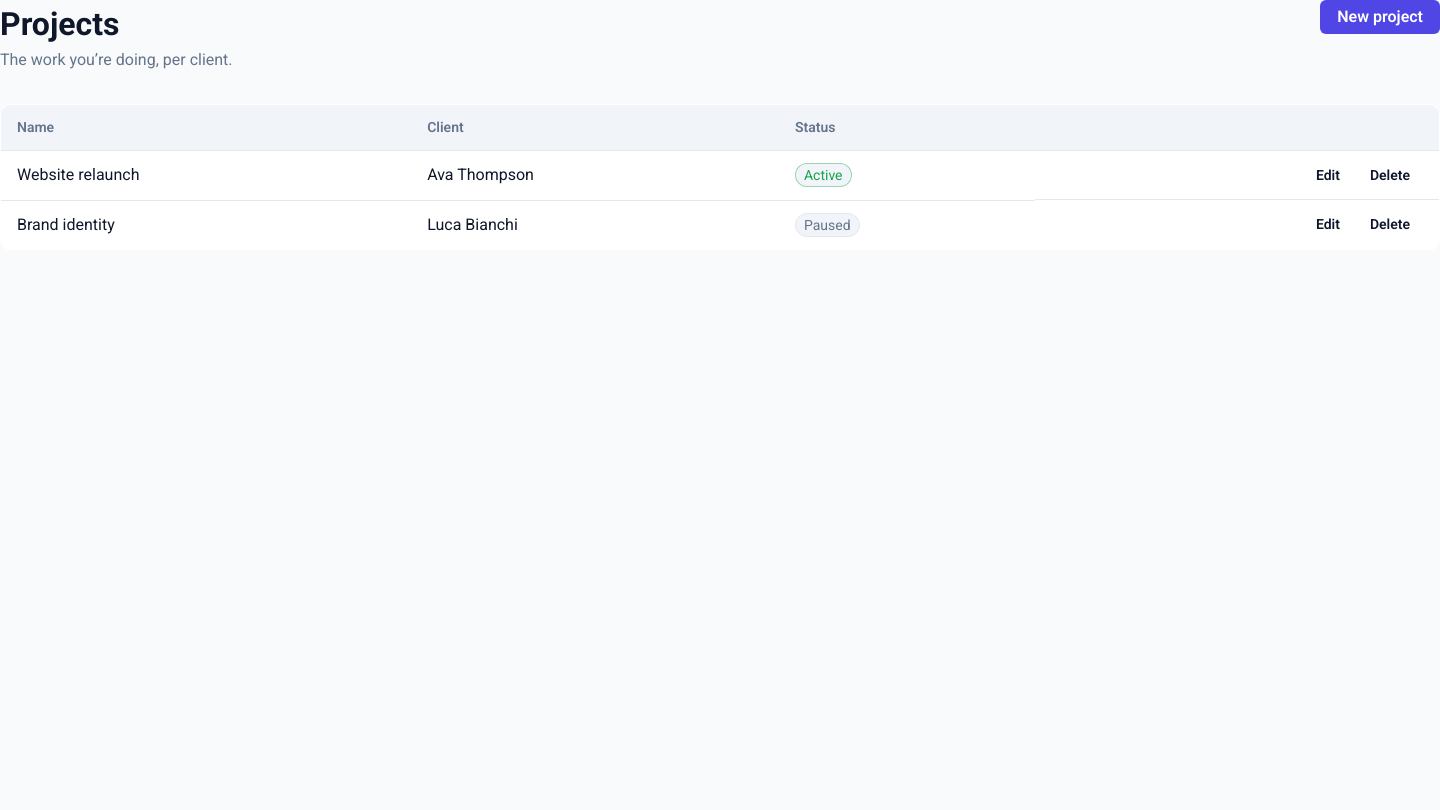
Scenario: ProjectsPage — writing › sends only the status when only the status changed
This screenshot has width=1440, height=810.
expect the text "Website relaunch" is shown: met, box x1=0 y1=151 x2=411 y2=200
Click the button with aria-label "Edit Website relaunch". click: click(1328, 175)
box: x1=1303 y1=163 x2=1353 y2=187
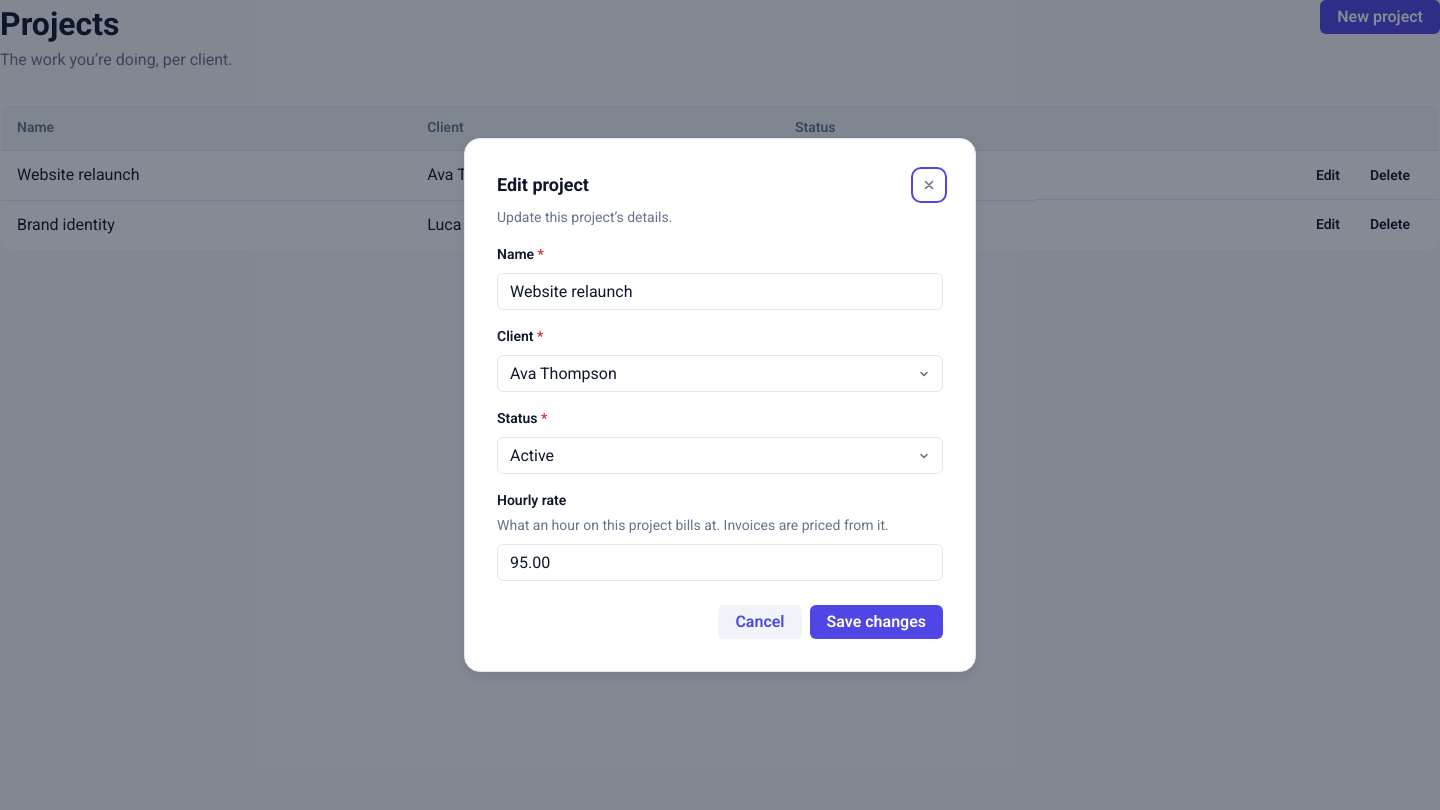
expect the field labelled "Name" holds "Website relaunch": met, box x1=497 y1=273 x2=943 y2=310
Click the dropdown named "Status". click: click(532, 456)
box: x1=497 y1=437 x2=943 y2=474
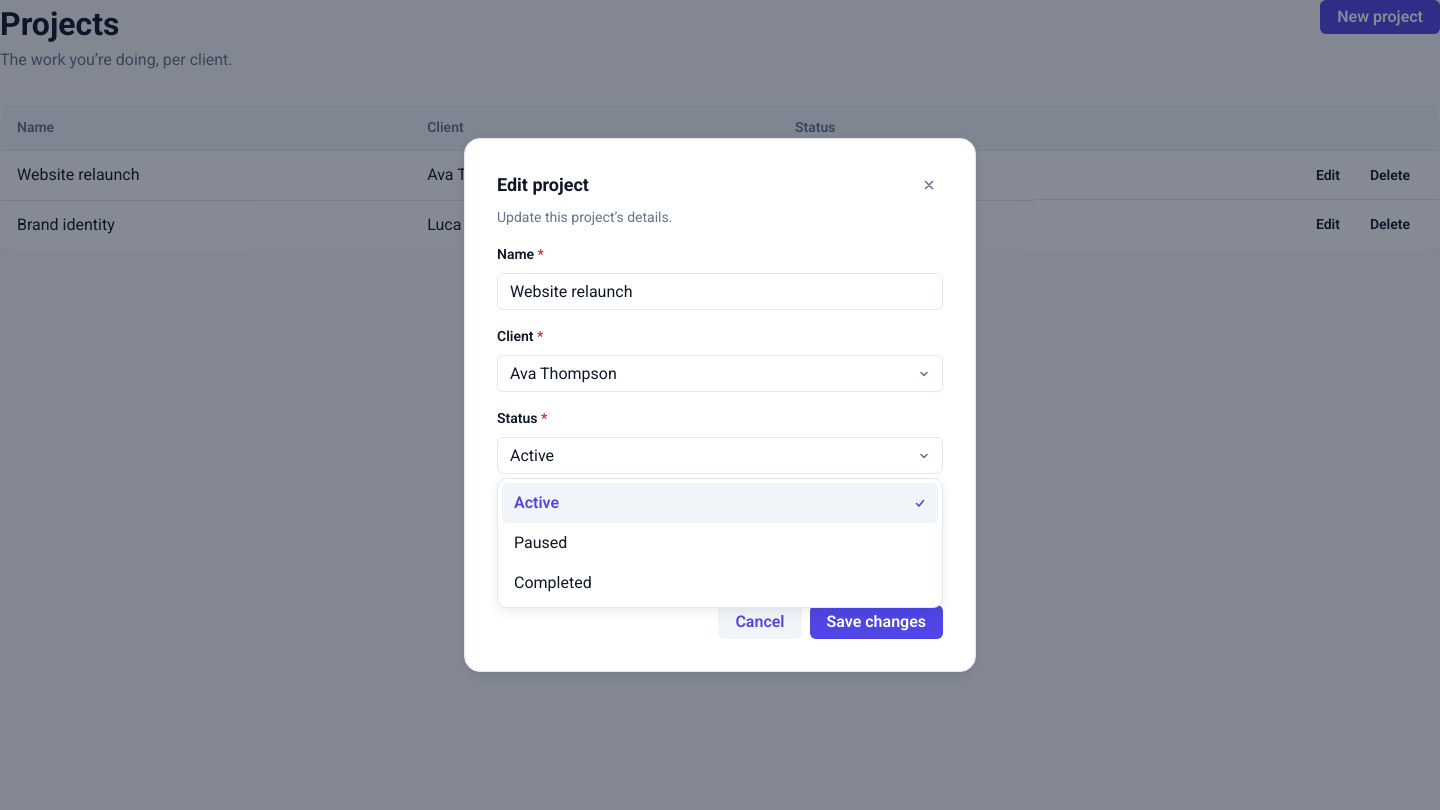
Click the option "Completed". click: click(553, 582)
box: x1=514 y1=573 x2=592 y2=592
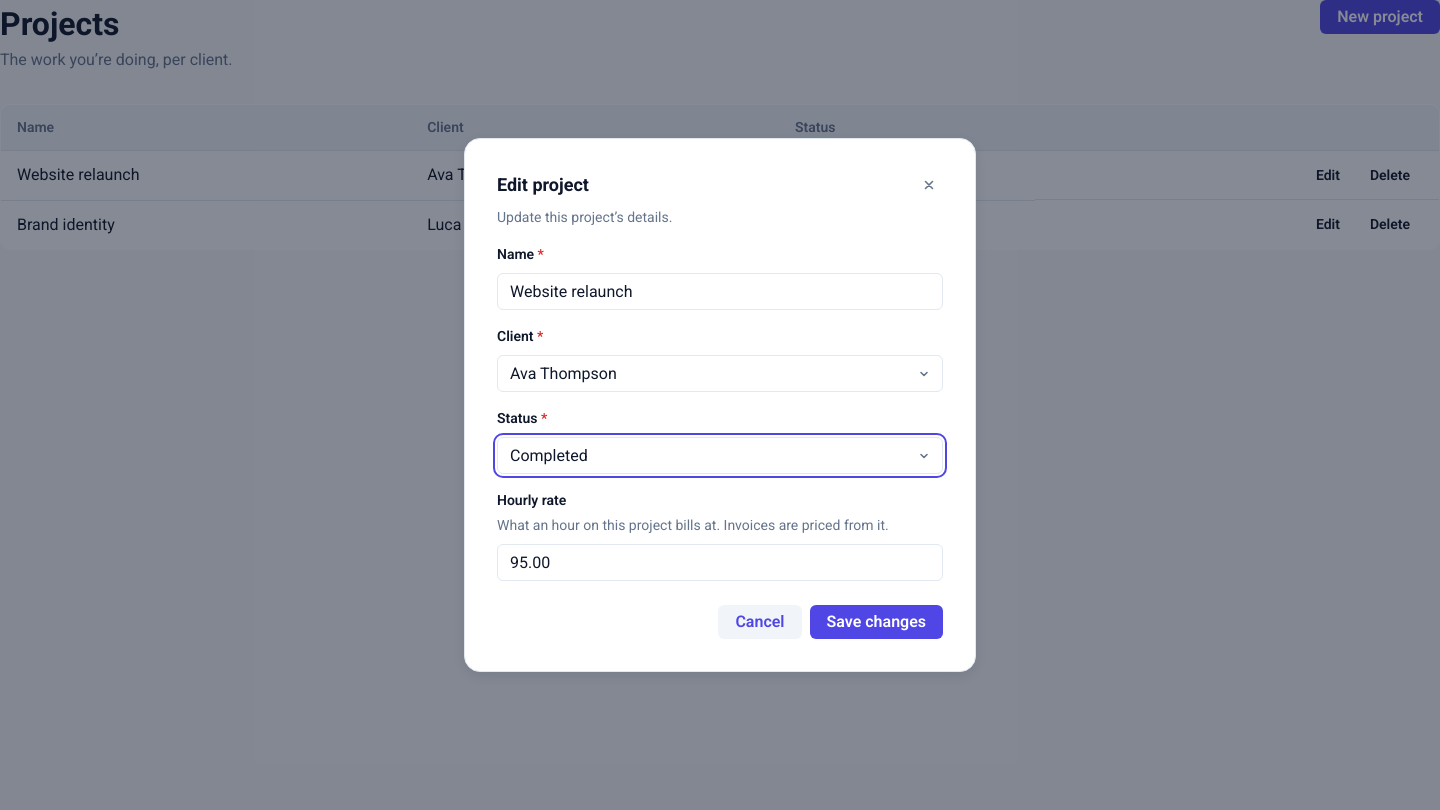
Click the button "Save changes". click: click(876, 622)
box: x1=810 y1=605 x2=943 y2=639
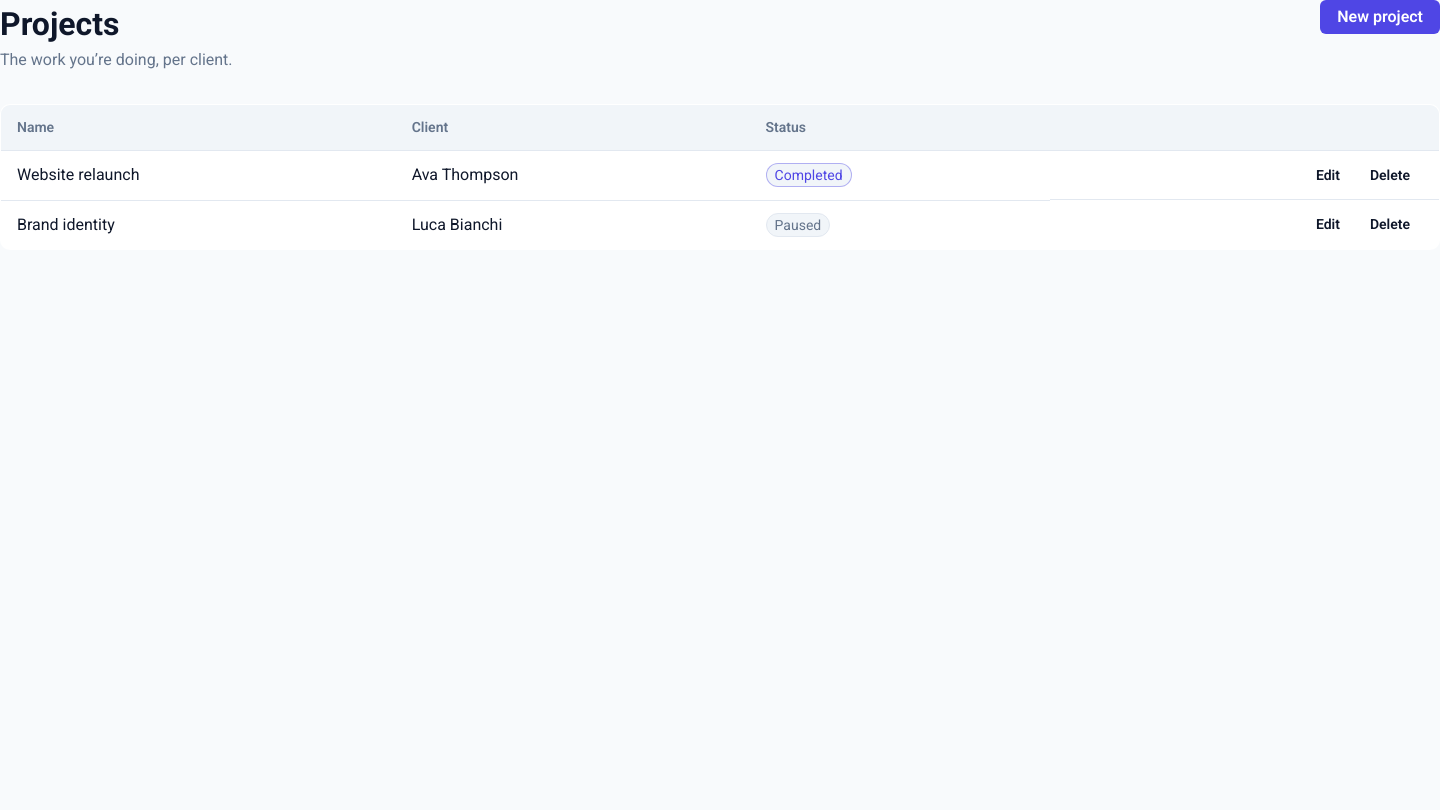
expect the text "Completed" is shown: met, box x1=766 y1=163 x2=852 y2=187
